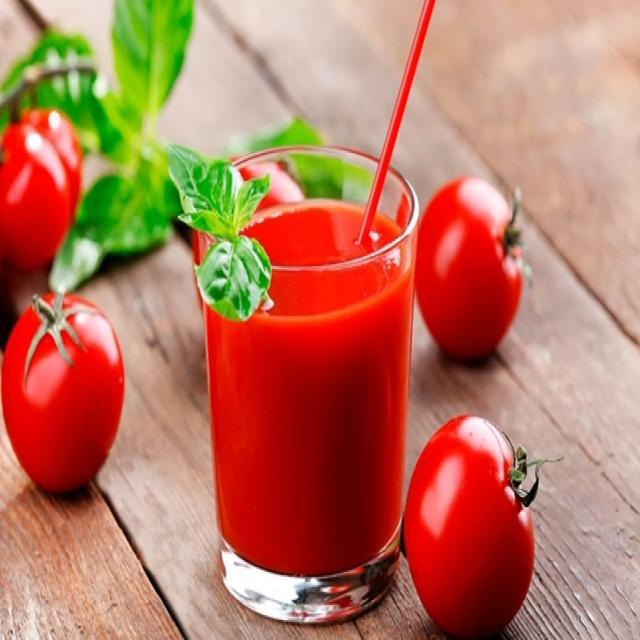kirmizi: (6, 284, 172, 504), (400, 166, 586, 362), (422, 392, 558, 636)
